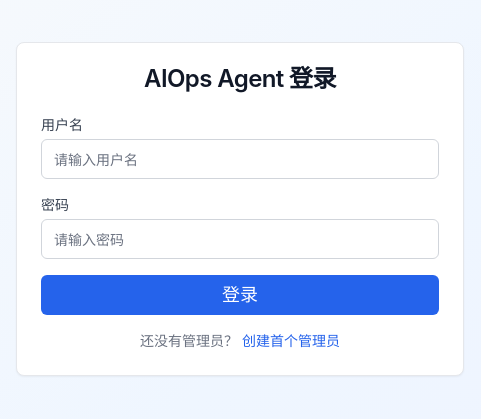
Test: Login Form Validation Tests › Error Handling › should handle 500 server errors
The image size is (481, 419).
Step 1. Type "admin" into the field with placeholder "请输入用户名" → (240, 159), box [41,139,439,179]
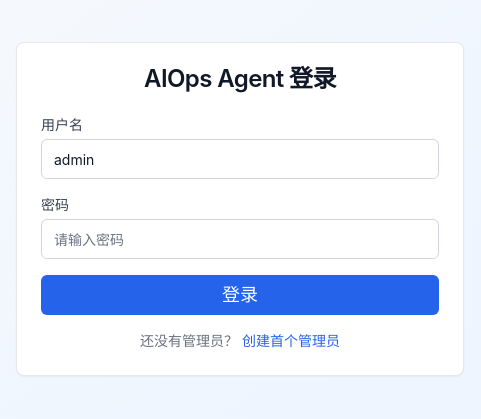
Step 2. Type "password" into the password field with placeholder "请输入密码" → (240, 239), box [41,219,439,259]
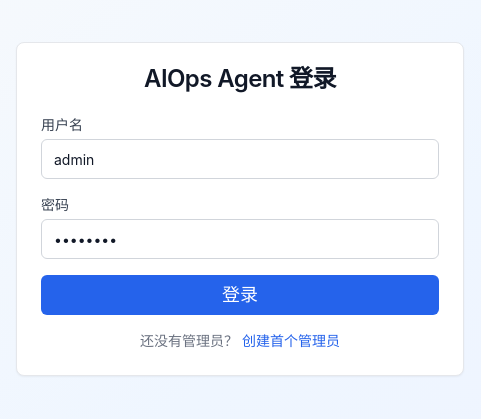
Step 3. Click the button "登录" → (240, 295), box [41,275,439,315]
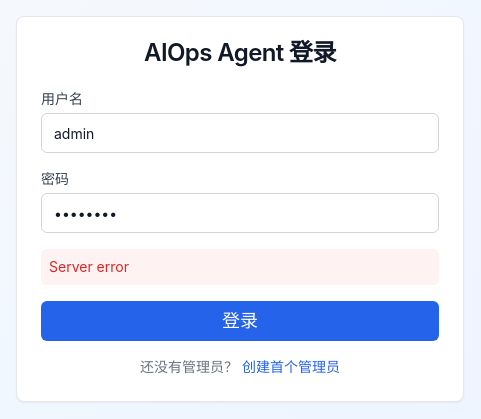
Check: the message reads "Server error", box [49,258,129,275]
